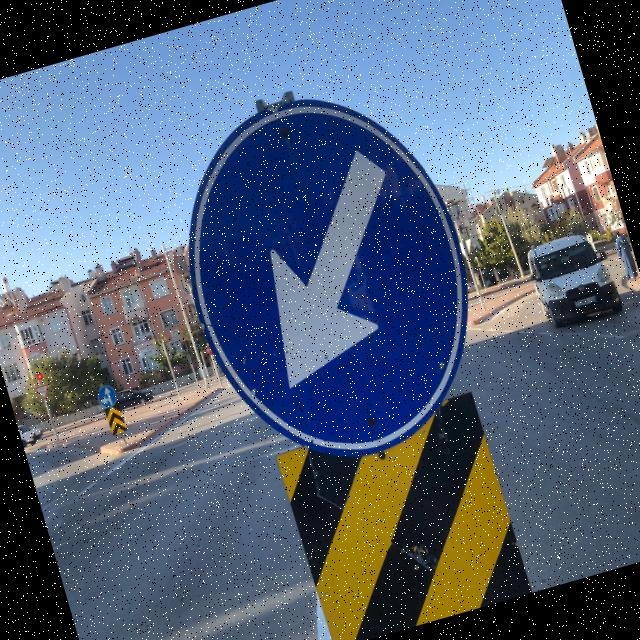compulsory_keep_right: (137, 55, 514, 492)
